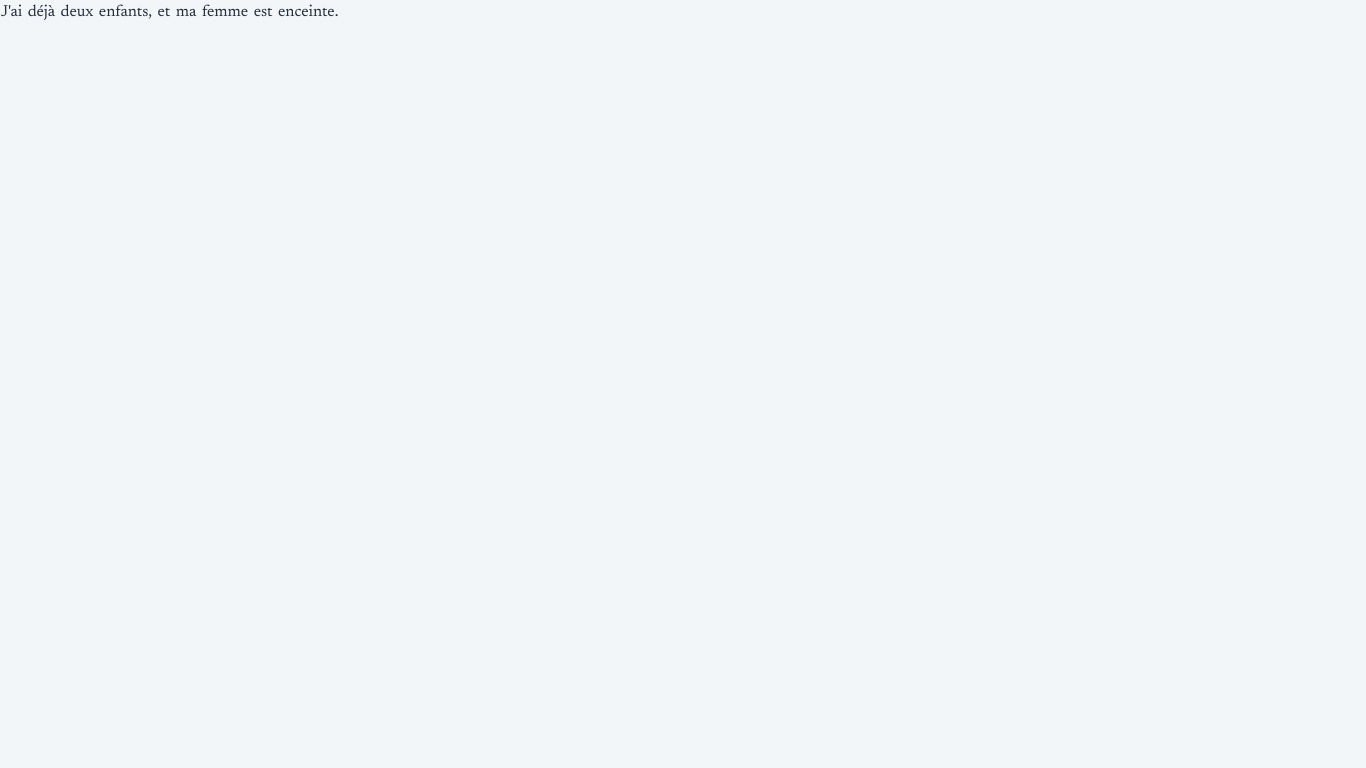
FrenchWords › reports an audio failure without closing the card
Click the button "enfants,".
click(125, 12)  # box x1=98 y1=4 x2=153 y2=20
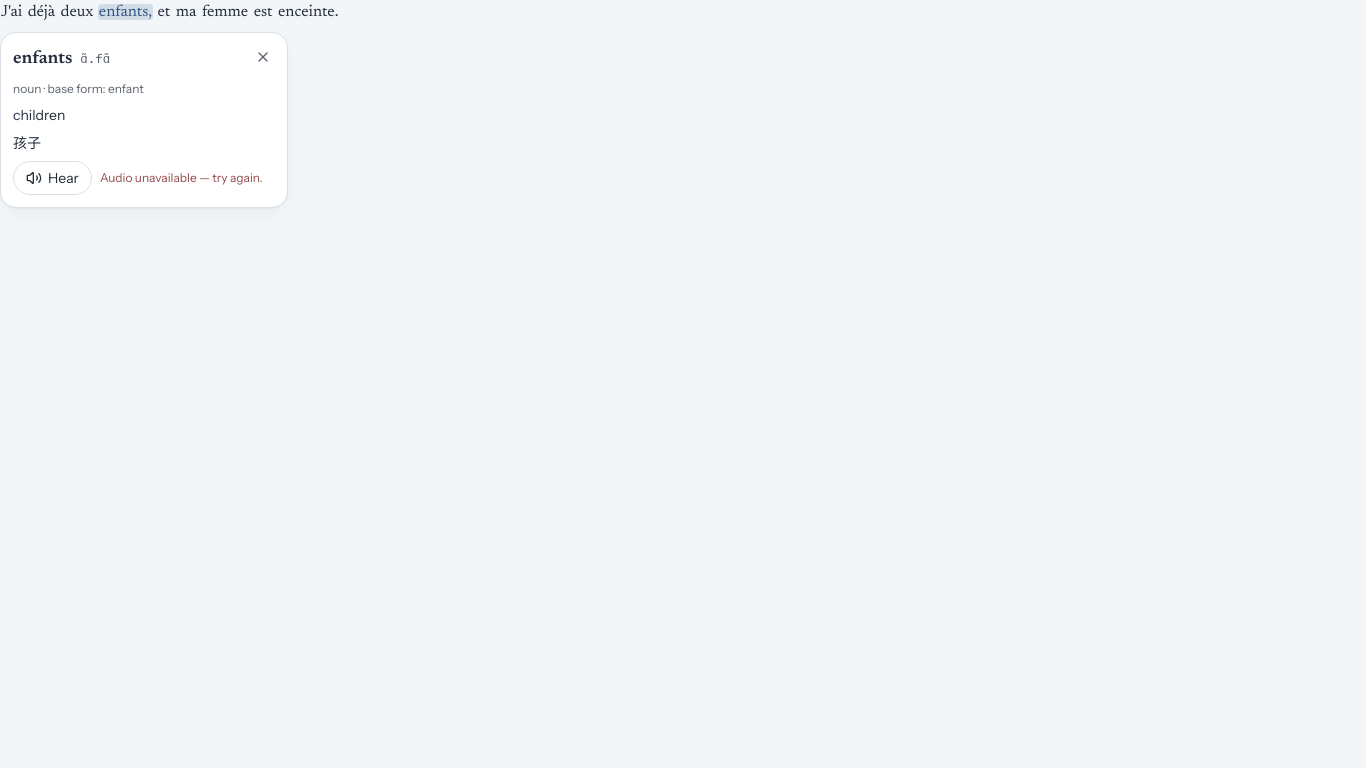
Now the message shows "Audio unavailable", box x1=100 y1=170 x2=263 y2=185
Now the dialog is shown, box x1=0 y1=32 x2=288 y2=208
Click the button with aria-label "Hear enfants".
click(52, 178)  # box x1=13 y1=161 x2=92 y2=195
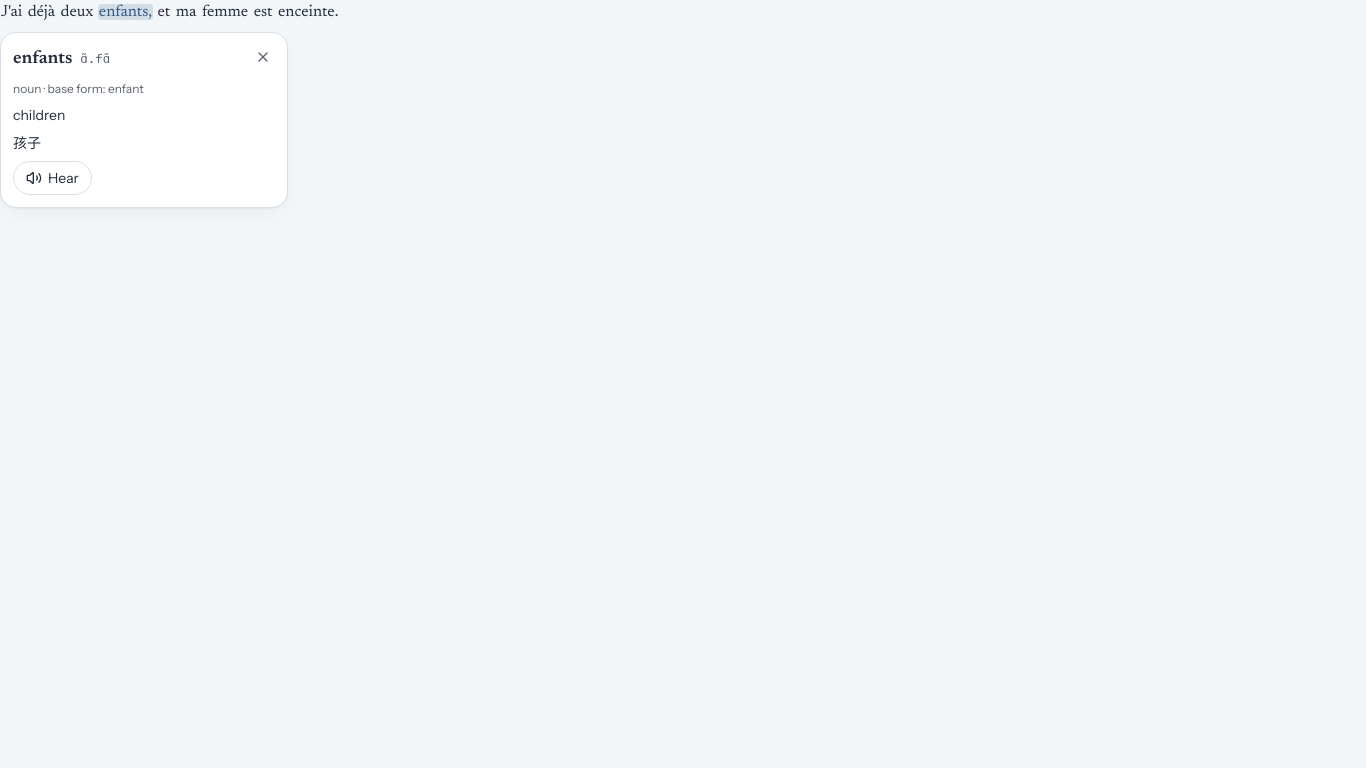
Now the message "Audio unavailable — try again." is gone
